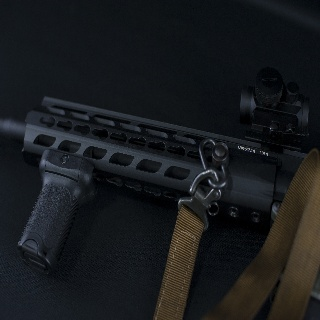rifle: (1, 67, 320, 276)
